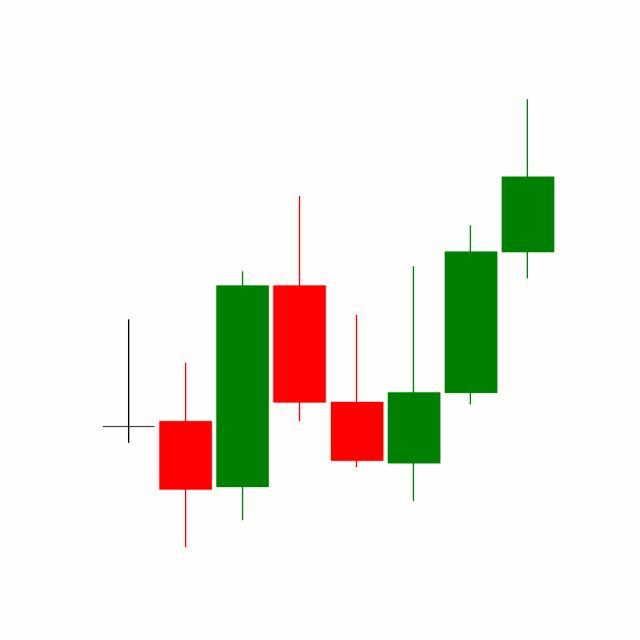Three Outside Up-Down: (328, 223, 500, 506)
